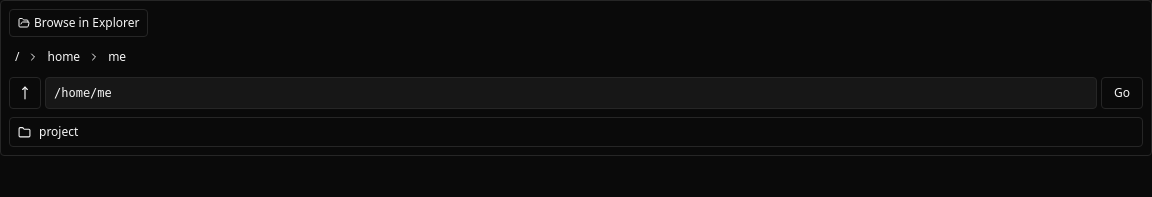
Test: WslFolderPicker › keeps the prior populated result while the newest normalization fails
Expected: the button "project" is shown, x1=10 y1=118 x2=1142 y2=146
Replace the text in the field named "Manual WSL path" with "/home/blocked" at (571, 93), box x1=45 y1=77 x2=1097 y2=109
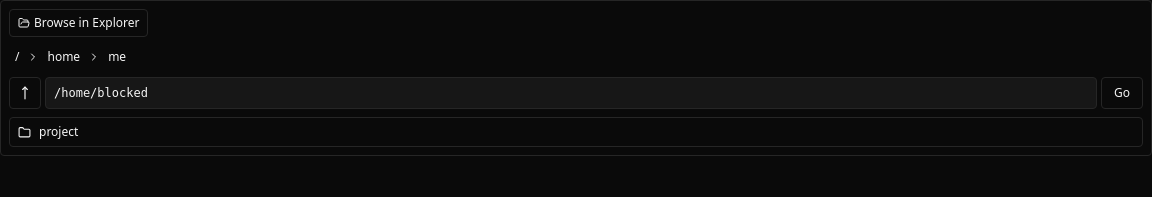
Click the button "Go".
click(1122, 93)  # box x1=1101 y1=77 x2=1143 y2=109
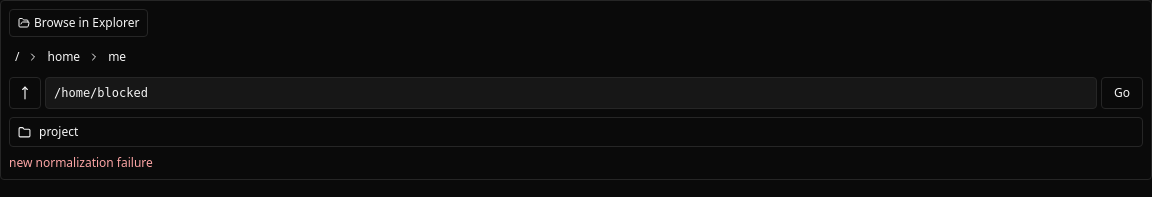
Expected: the button "project" is shown, x1=10 y1=118 x2=1142 y2=146
Expected: the message reads "new normalization failure", x1=9 y1=154 x2=153 y2=171
